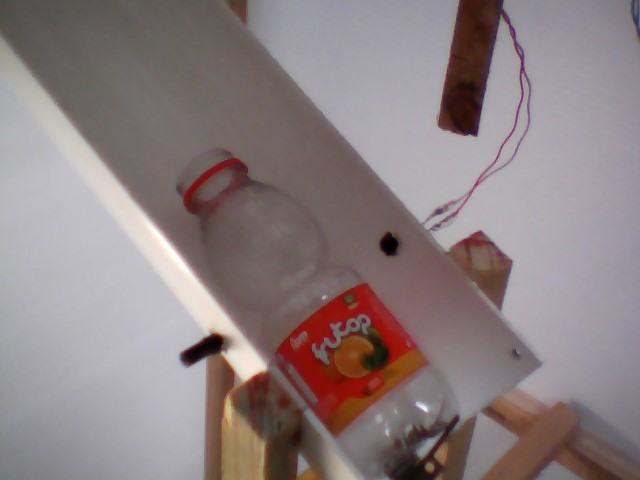plastico: (148, 141, 471, 478)
